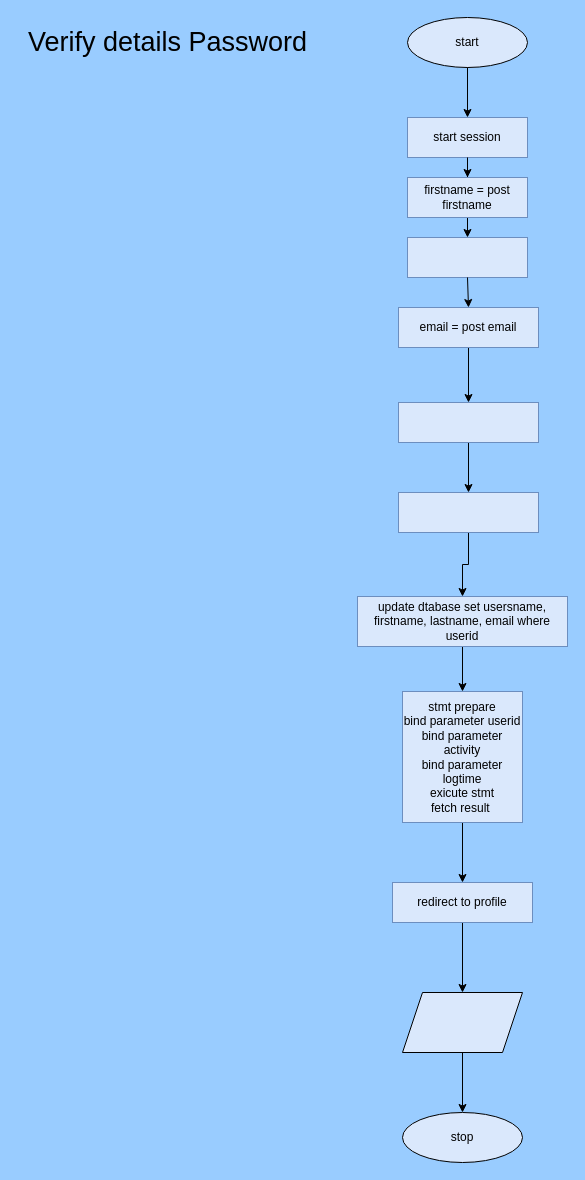
The diagram is 585 pixels wide and 1180 high, and some of its shapes have lost their labels. Each missing label, with the centre of its shape:
"lastname = post lastname" goes at (467,257).
"succesfully updated" goes at (462,1022).
"userid = session userid" goes at (468,422).
"username = session username" goes at (468,512).
